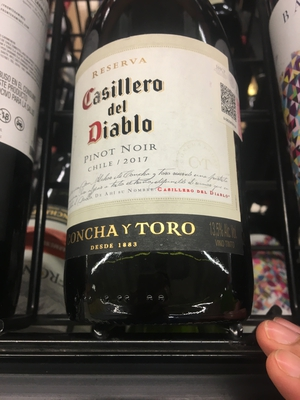casillero del diablo pinot noir: (72, 14, 257, 337)
